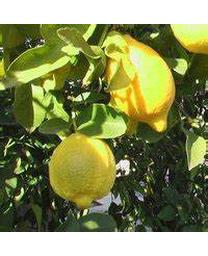lemon: (107, 33, 175, 131), (49, 132, 117, 208)
